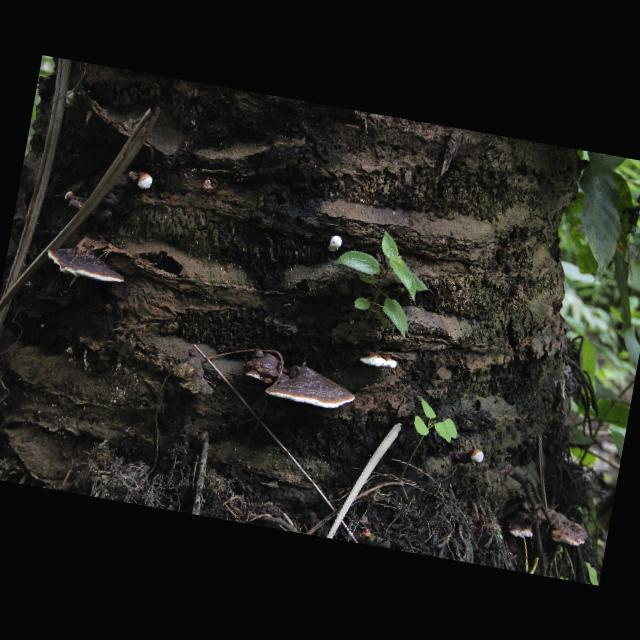ganoderma: (264, 361, 361, 415), (69, 159, 138, 228), (43, 241, 132, 289), (539, 507, 592, 550), (240, 347, 286, 387), (501, 511, 538, 542), (358, 347, 401, 372)
primordium: (135, 171, 156, 193), (325, 234, 344, 255), (466, 449, 486, 466), (62, 89, 78, 110), (64, 190, 75, 204)
